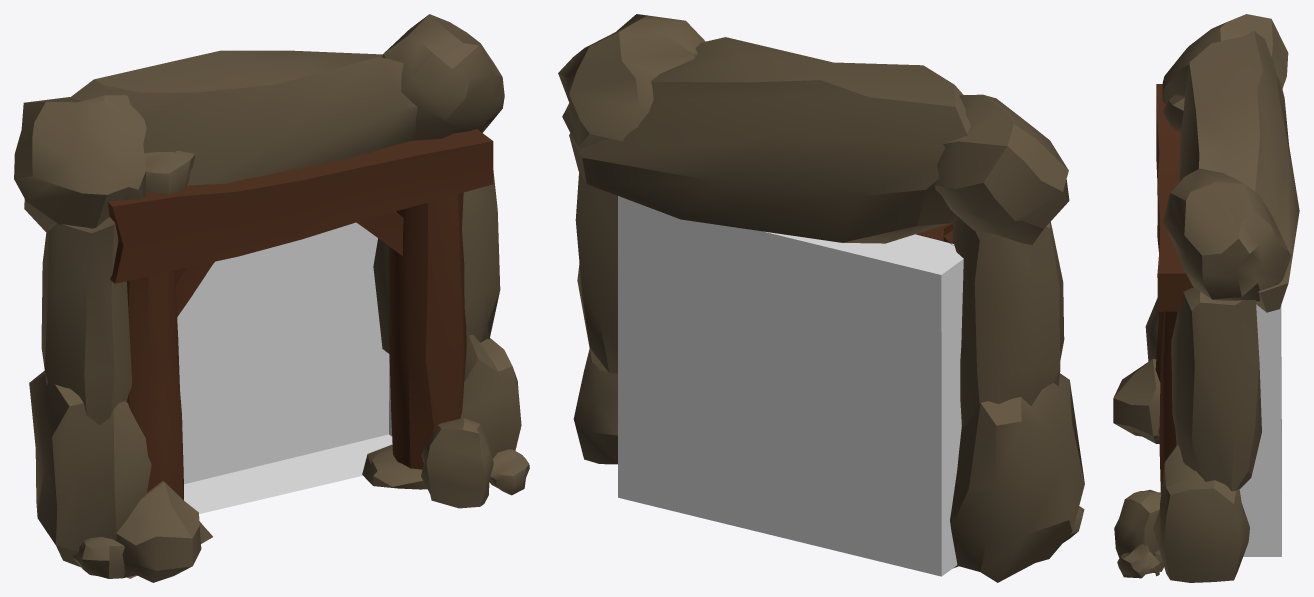
The model's file is doorway.fbx.
The picture shows the model from 3 angles, left to right: view 1: azimuth 30°, elevation 25°; view 2: azimuth 150°, elevation 25°; view 3: azimuth 270°, elevation 25°; orthographic projection. The views are drawn at different scales.
Parts seen in each view (by area): view 1: cave_doorway; view 2: cave_doorway; view 3: cave_doorway.
Part boxes in pixels (x1,y1,x2,y2): cave_doorway: (14,14,529,582); cave_doorway: (558,14,1084,582); cave_doorway: (1113,14,1299,582).
Size of the model in its own units: 797 by 738 by 303.
